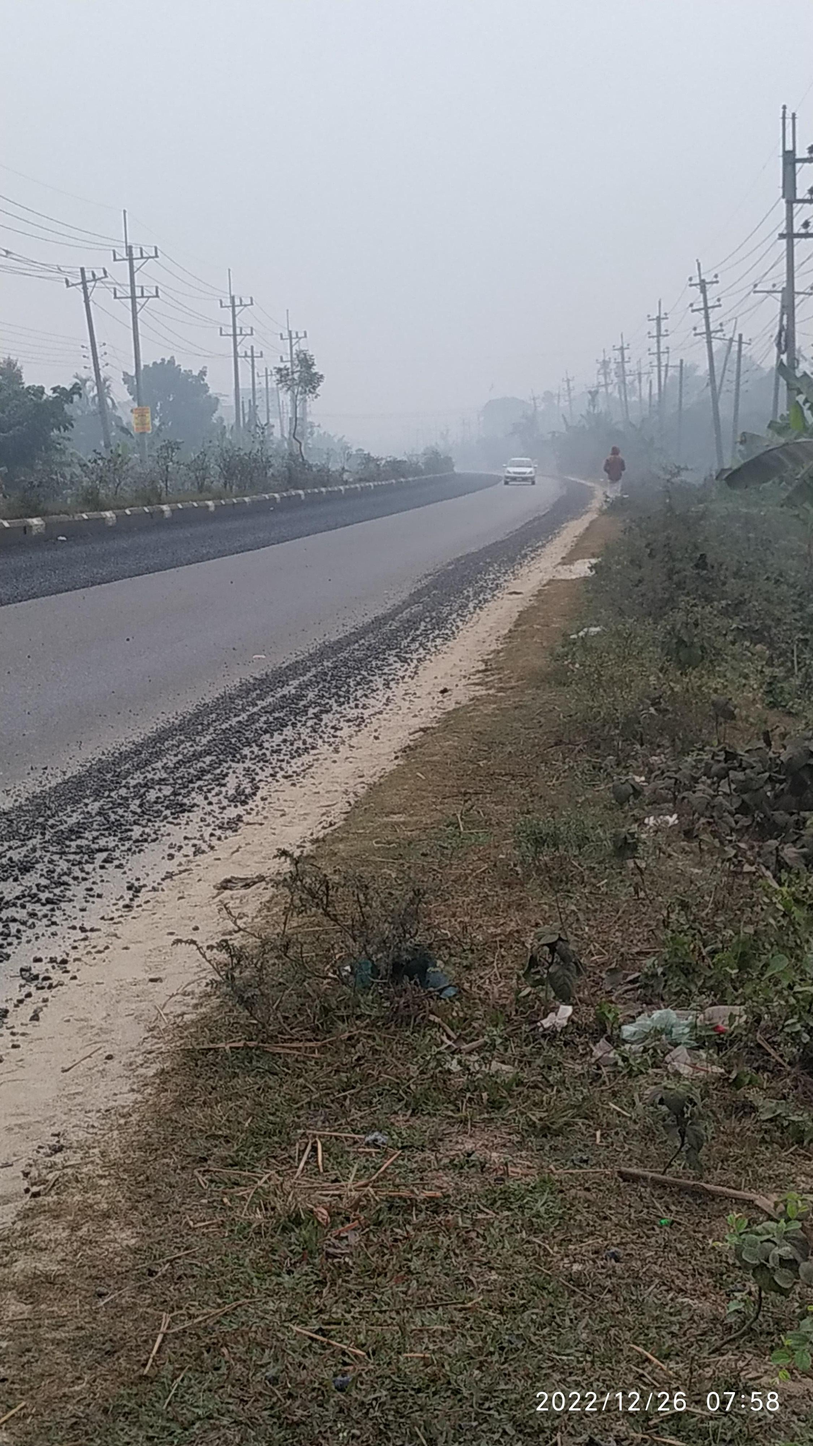Car: (494, 443, 548, 503)
